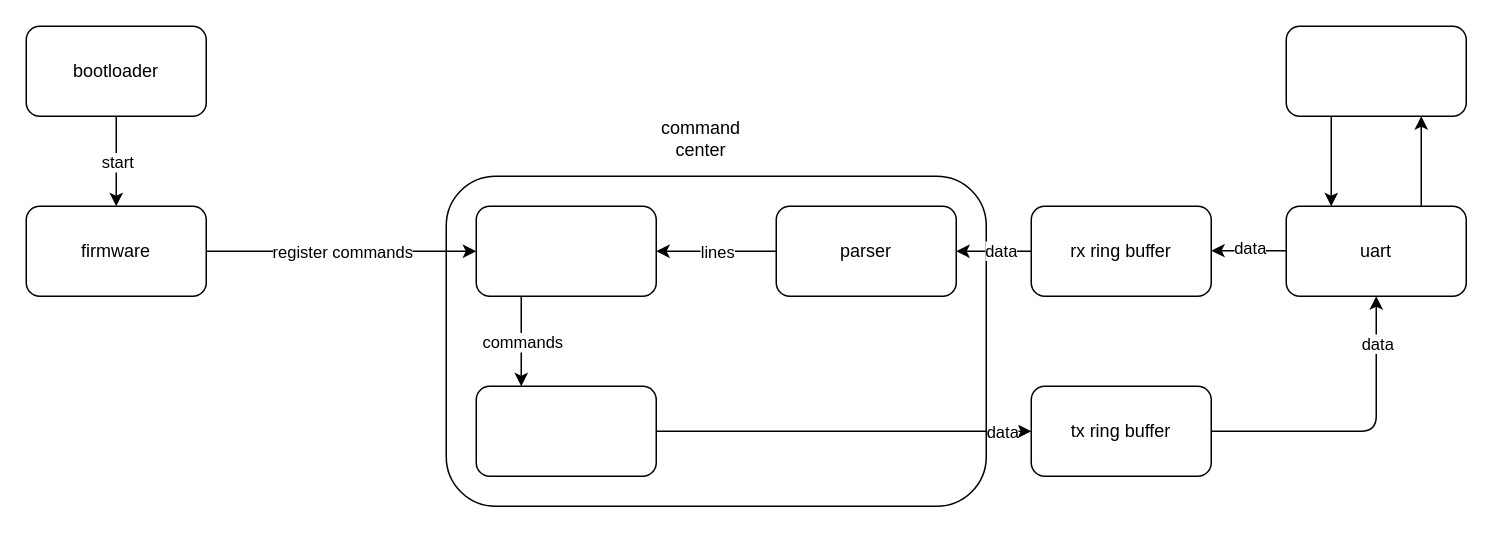
Image size: 1493x533. Some labels were removed from this diagram. The shapes that lost their labels are listed below. From the top down, each one's centre as x and y in pixels, then its label:
[1375,70]: dma wrapper
[565,250]: dispatcher
[565,430]: handlers
